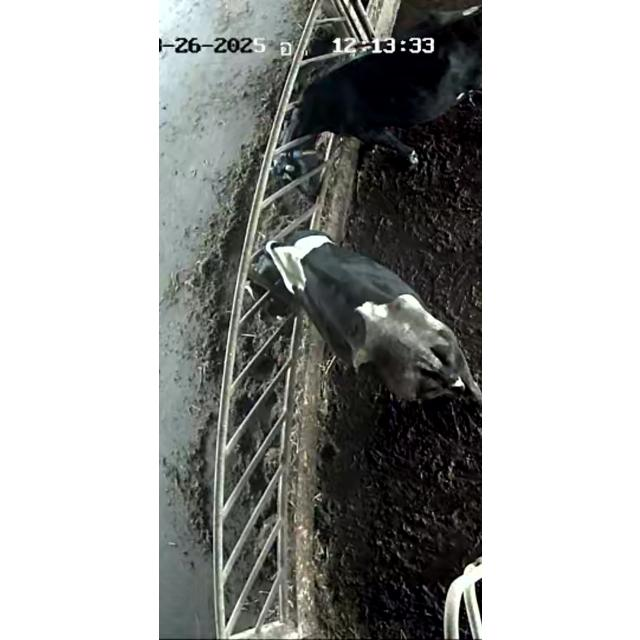eat: (220, 64, 410, 186), (200, 206, 356, 330)
